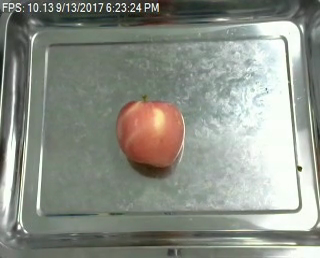Apple: (113, 97, 189, 168)
